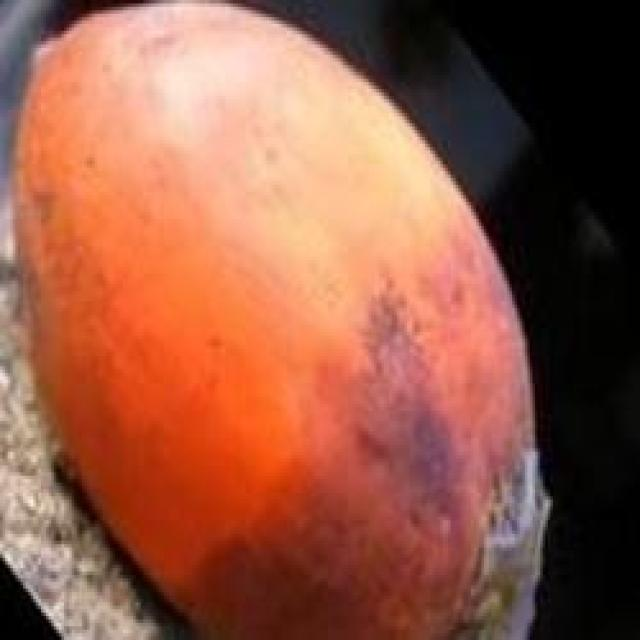good: (13, 0, 553, 637)
